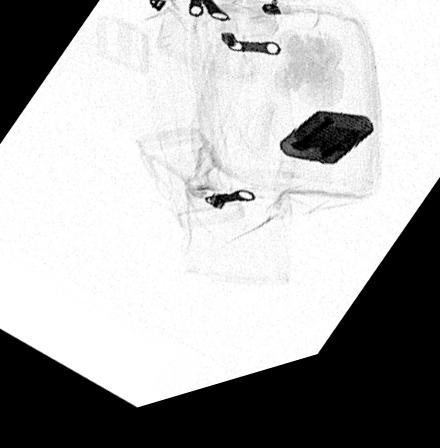Lighter: (279, 128, 374, 184)
